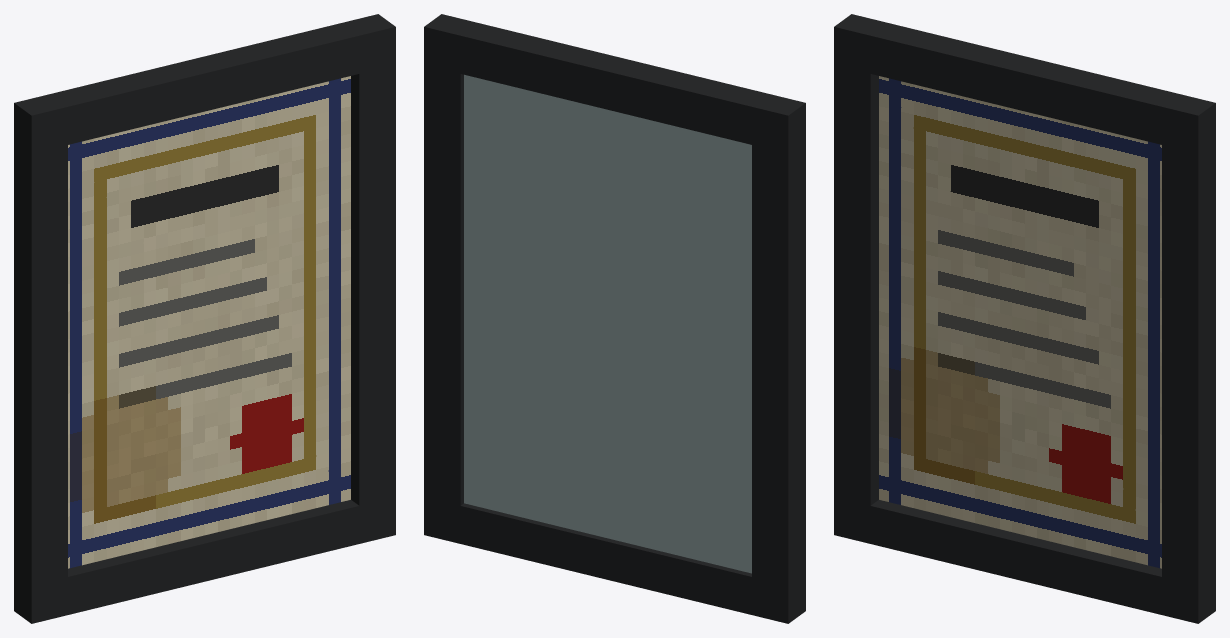
The model's file is frame_cert.fbx.
3 renders of one model, left to right at view 1: azimuth 30°, elevation 25°; view 2: azimuth 150°, elevation 25°; view 3: azimuth 330°, elevation 25°, orthographic.
Visible parts, largest first — view 1: frame_cert; view 2: frame_cert; view 3: frame_cert.
Part boxes in pixels (box(x1,y1,x2,y2)): frame_cert: box(14, 14, 395, 623); frame_cert: box(424, 14, 805, 623); frame_cert: box(834, 14, 1215, 623).
Size of the model in its own units: 0.3 by 0.4 by 0.025.
